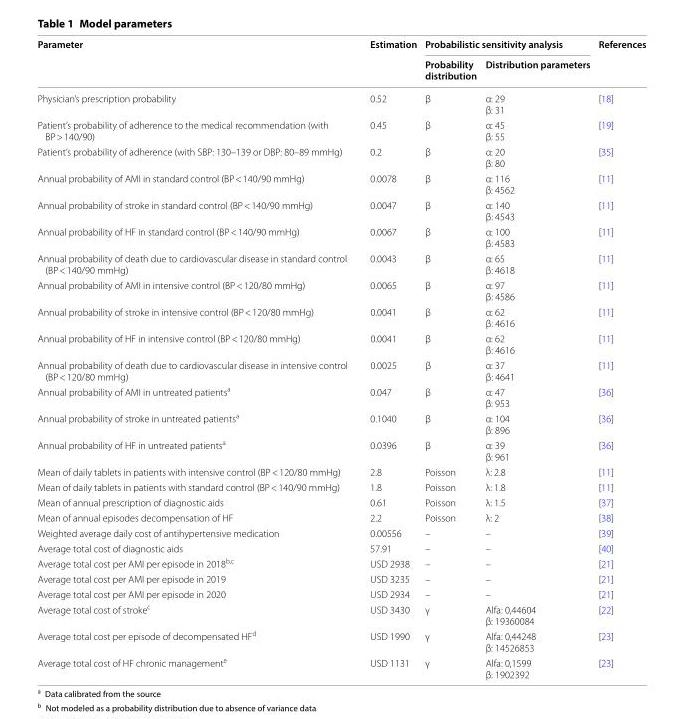table: (36, 37, 645, 679)
table column: (36, 37, 358, 679), (480, 37, 593, 679), (358, 37, 420, 679), (420, 37, 480, 679), (593, 37, 645, 679)
table column header: (36, 37, 645, 86)
table row: (36, 53, 645, 86), (36, 86, 645, 117), (36, 143, 645, 170), (36, 170, 645, 197), (36, 223, 645, 250), (36, 250, 645, 277), (36, 303, 645, 330), (36, 330, 645, 357), (36, 409, 645, 436), (36, 436, 645, 463), (36, 600, 645, 627), (36, 627, 645, 654), (36, 117, 645, 143), (36, 197, 645, 223), (36, 277, 645, 303), (36, 357, 645, 383), (36, 383, 645, 409), (36, 654, 645, 679), (36, 37, 645, 53), (36, 463, 645, 479), (36, 509, 645, 525), (36, 554, 645, 570), (36, 570, 645, 586), (36, 479, 645, 494), (36, 494, 645, 509), (36, 525, 645, 540), (36, 540, 645, 554), (36, 586, 645, 600)
table spanning cell: (36, 37, 358, 86), (358, 37, 420, 86), (420, 37, 593, 53), (593, 37, 645, 86)
